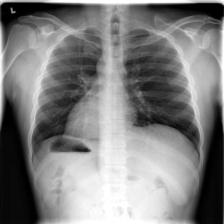normal: (29, 20, 202, 176)
